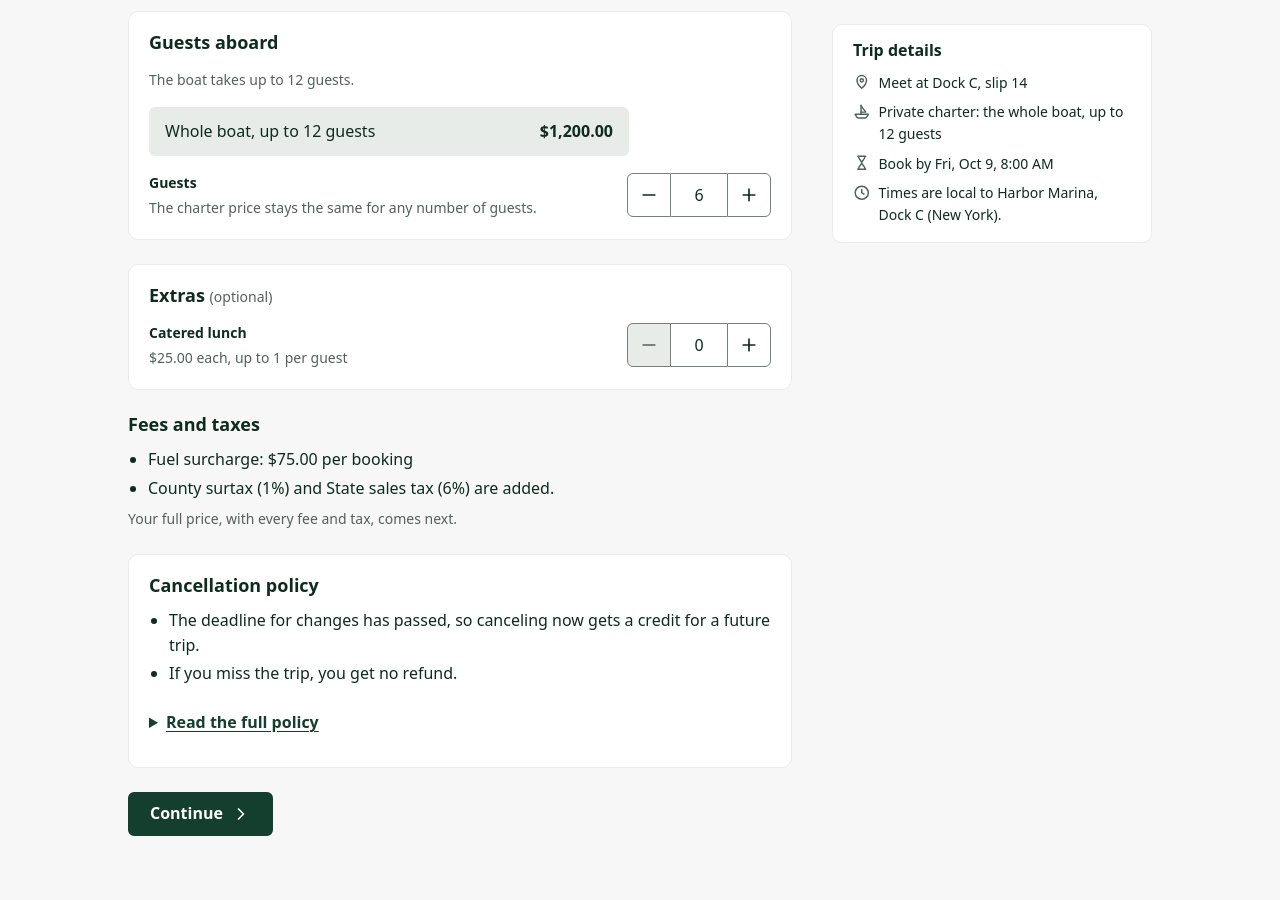
choosing the party › books a charter by guests aboard, within the boat and the product
The width and height of the screenshot is (1280, 900).
(page scrolled)
Expected: the number field labelled "Guests" holds "6", [671,173,727,217]
Expected: the list item "If you miss the trip, you get no refund." is shown, [169,662,457,684]
Click the button "Continue": [200, 814] box [128,792,273,836]
(page scrolled)
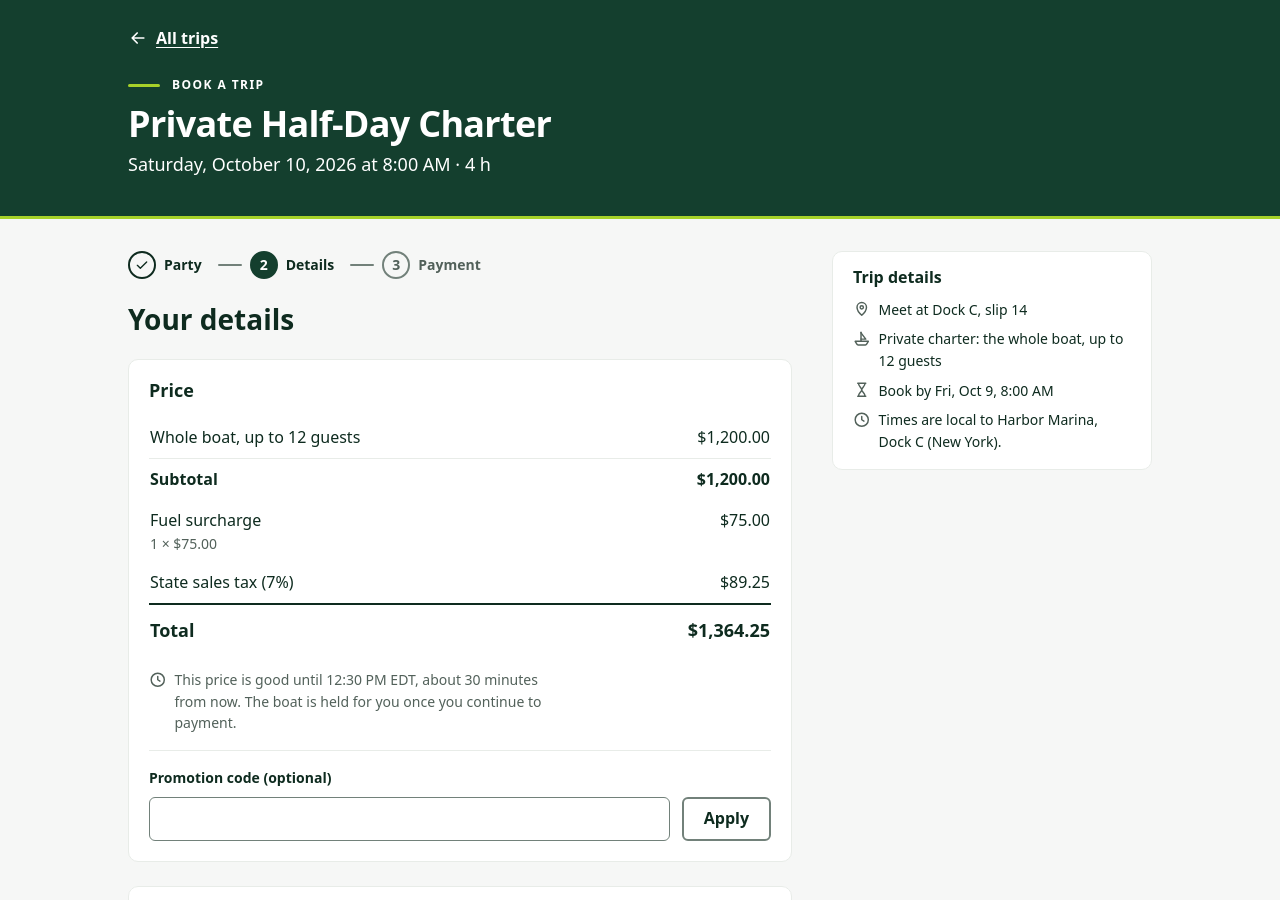
Expected: the text "The boat is held for you once you continue to payment." is shown, [174,669,569,734]
